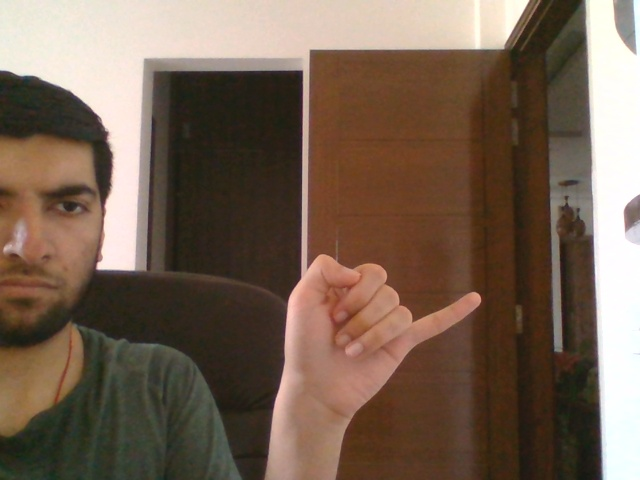LetterJ: (282, 253, 482, 418)
